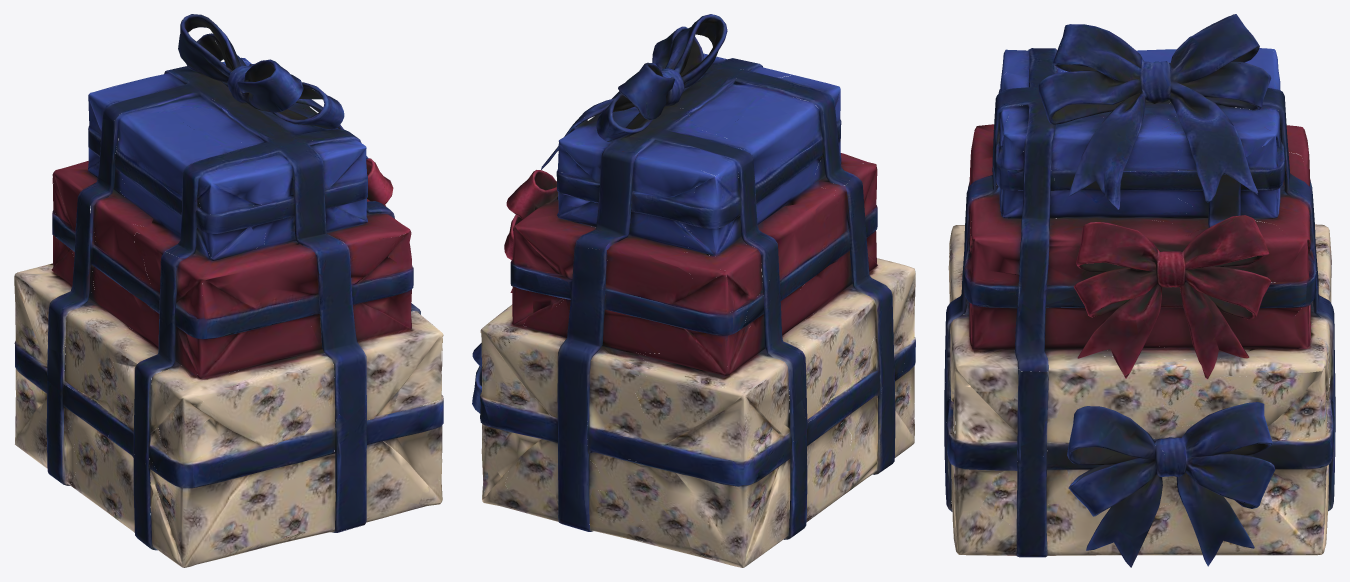
The model's file is lt_gifts.glb.
3 views of the same model, side by side, from view 1: azimuth 30°, elevation 25°; view 2: azimuth 150°, elevation 25°; view 3: azimuth 270°, elevation 25° (orthographic). The views are drawn at different scales.
Visible parts, largest first — view 1: tripo_node_1f636c24-3539-44b7-8b66-875619e5a67e; view 2: tripo_node_1f636c24-3539-44b7-8b66-875619e5a67e; view 3: tripo_node_1f636c24-3539-44b7-8b66-875619e5a67e.
Part boxes in pixels (x1=…): tripo_node_1f636c24-3539-44b7-8b66-875619e5a67e: x1=14, y1=14, x2=443, y2=567; tripo_node_1f636c24-3539-44b7-8b66-875619e5a67e: x1=472, y1=14, x2=915, y2=567; tripo_node_1f636c24-3539-44b7-8b66-875619e5a67e: x1=944, y1=14, x2=1335, y2=567.
Bounding box in the file's own units: 0.7581 × 0.9999 × 0.7443.
1 material, 1 textured.
